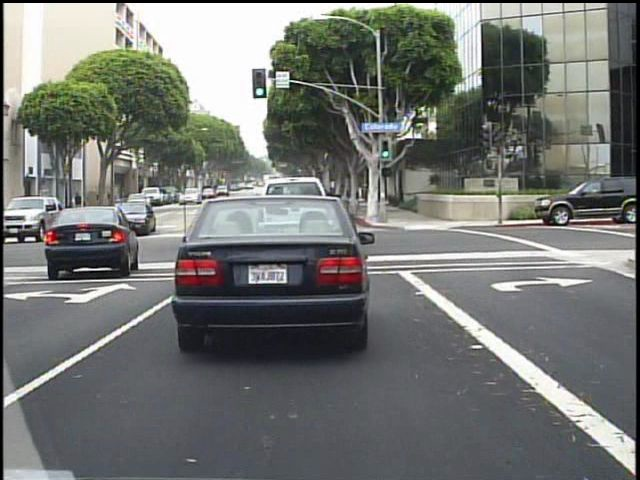person: (72, 188, 89, 221)
